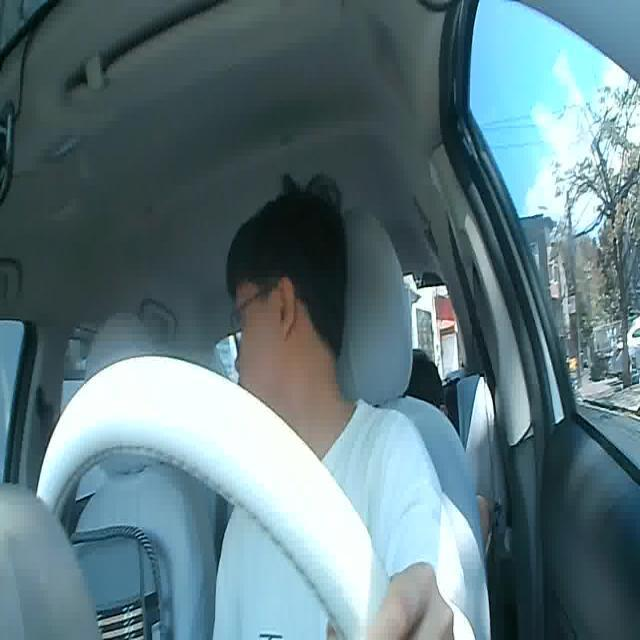Inattentive: (226, 178, 346, 418)
